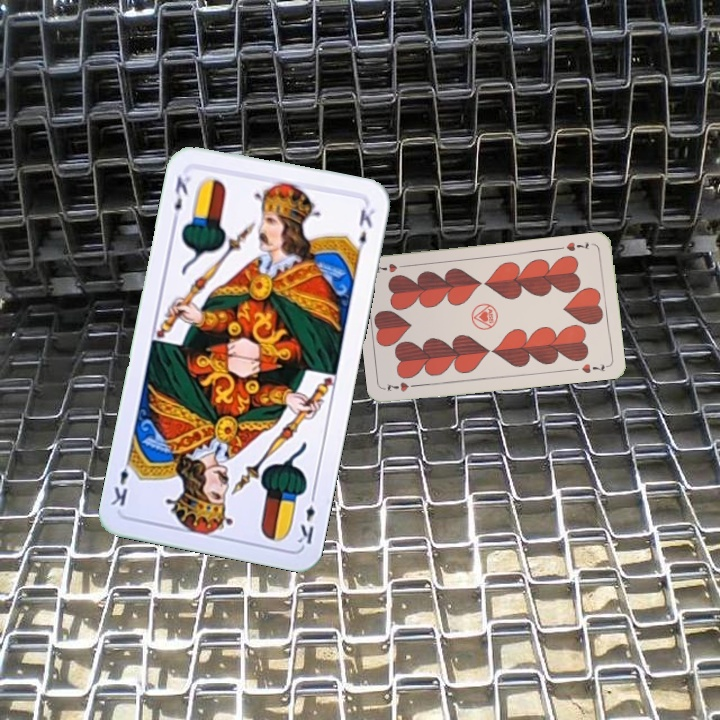EK: (294, 488, 319, 547), (166, 172, 192, 226)
H7: (383, 378, 422, 394), (562, 238, 592, 254)
